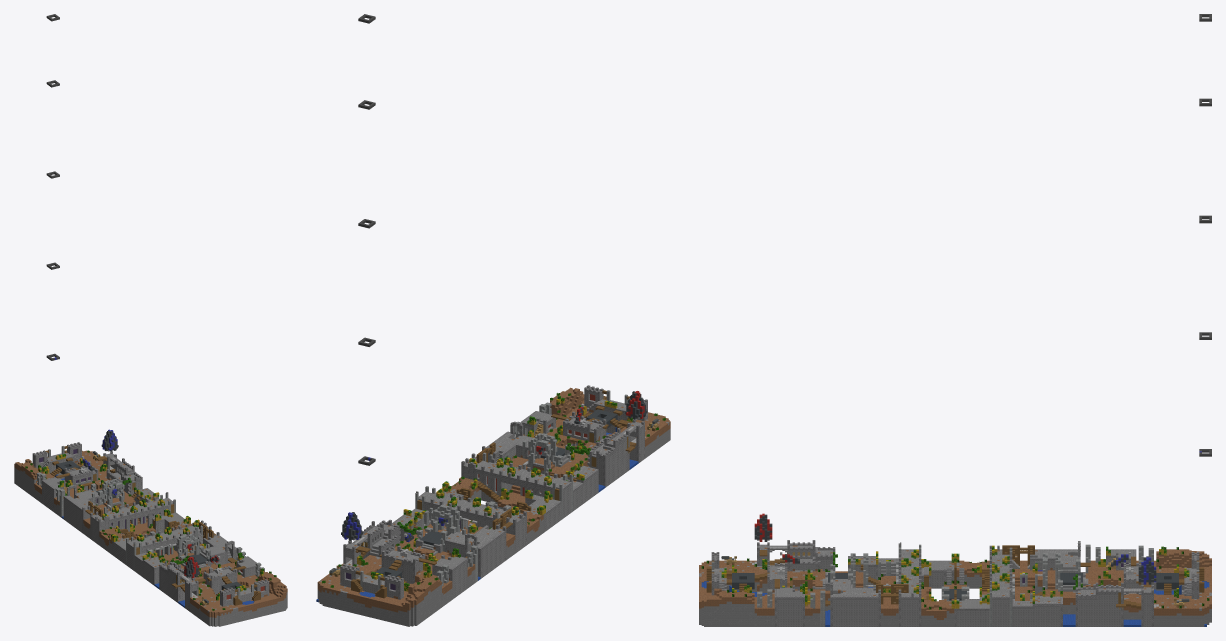
Rendered from minecraft.obj.
The picture shows the model from 3 angles, left to right: view 1: azimuth 30°, elevation 25°; view 2: azimuth 150°, elevation 25°; view 3: azimuth 270°, elevation 25°; orthographic projection. The views are drawn at different scales.
Size of the model in its own units: 49 by 256 by 203.
